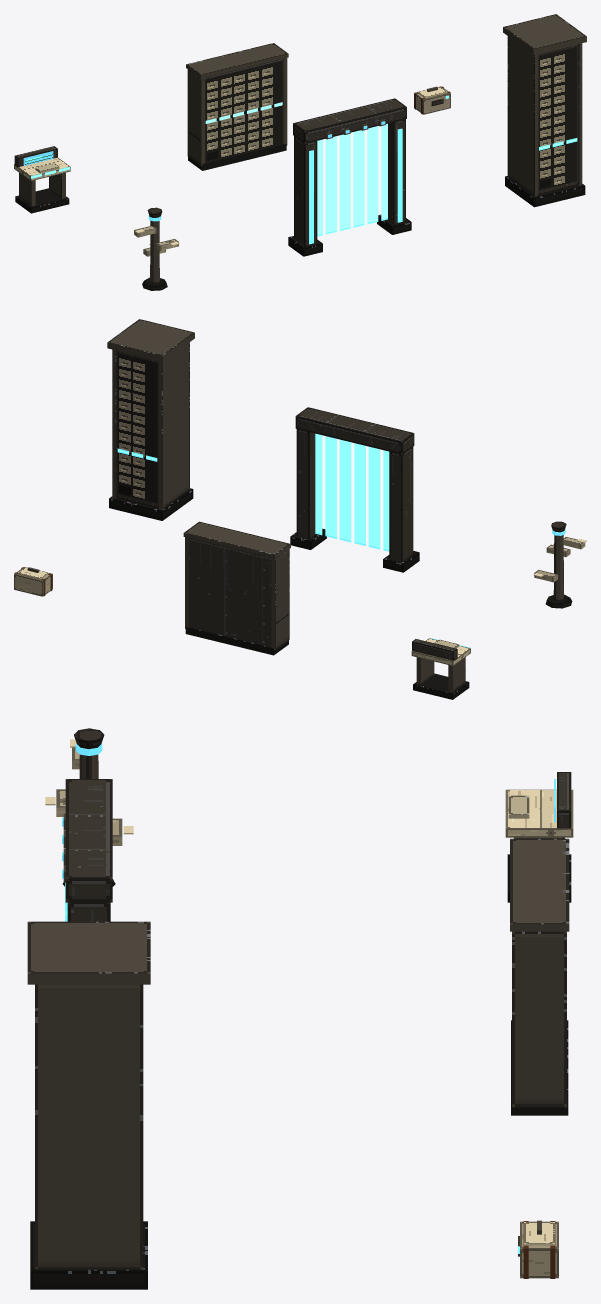
Rendered from stacks_pieces.gltf.
3 renders of one model, top to bottom at view 1: azimuth 30°, elevation 25°; view 2: azimuth 150°, elevation 25°; view 3: azimuth 270°, elevation 25°, orthographic. The views are drawn at different scales.
Visible parts, largest first — view 1: DrawerSpire, ScanArch, Barrier, Terminal, Junction, CarryGear; view 2: DrawerSpire, ScanArch, Barrier, Terminal, Junction, CarryGear; view 3: DrawerSpire, Barrier, ScanArch, Terminal, CarryGear, Junction.
Boxes of the visible parts, x1,y1,x2,y2 form: DrawerSpire: [503, 14, 586, 207]; ScanArch: [288, 98, 411, 256]; Barrier: [186, 43, 288, 170]; Terminal: [14, 146, 70, 213]; Junction: [134, 207, 179, 290]; CarryGear: [414, 86, 450, 114]; DrawerSpire: [107, 319, 194, 520]; ScanArch: [290, 407, 419, 572]; Barrier: [183, 521, 290, 655]; Terminal: [411, 638, 470, 699]; Junction: [533, 521, 586, 608]; CarryGear: [14, 567, 52, 596]; DrawerSpire: [27, 921, 150, 1289]; Barrier: [510, 838, 569, 1115]; ScanArch: [62, 779, 112, 921]; Terminal: [505, 772, 573, 902]; CarryGear: [518, 1220, 558, 1278]; Junction: [45, 728, 133, 886].
Size of the model in its own units: 9.9 by 3.43 by 5.33.
Materials: 6 (6 with a texture image).
